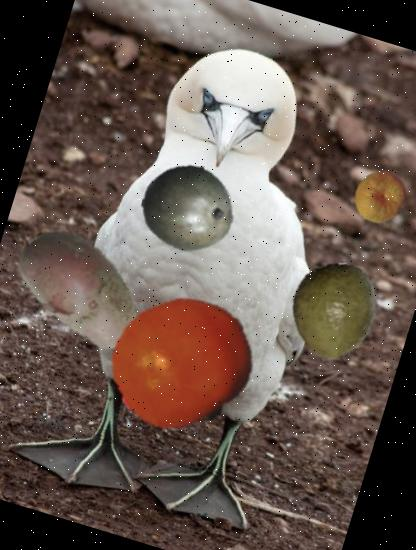Clementine: (93, 274, 272, 452)
Guava: (275, 252, 395, 372)
Mandarine: (346, 163, 415, 232)
Mango: (130, 150, 246, 266)
Potato: (0, 199, 170, 379)
